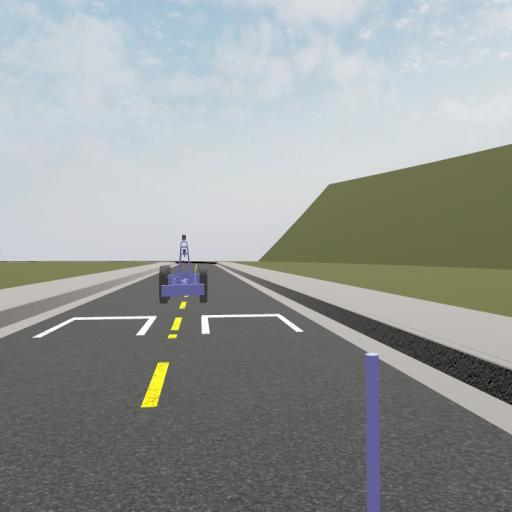ERP-42: (158, 234, 208, 302)
